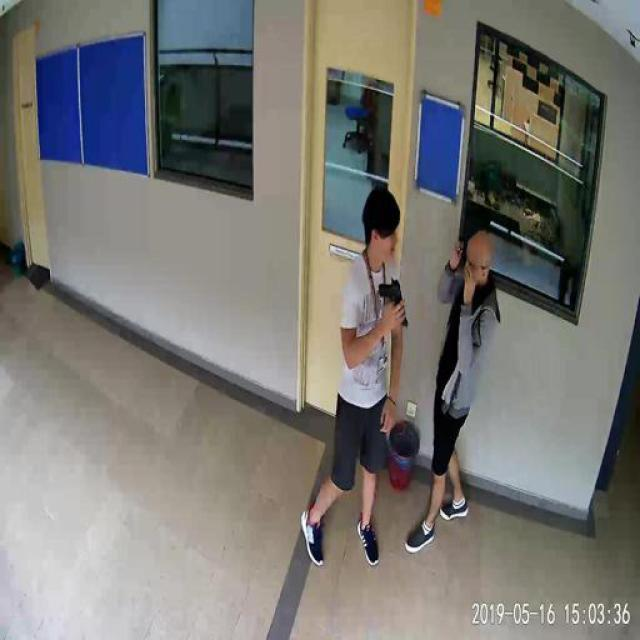weapon: (376, 279, 410, 331)
